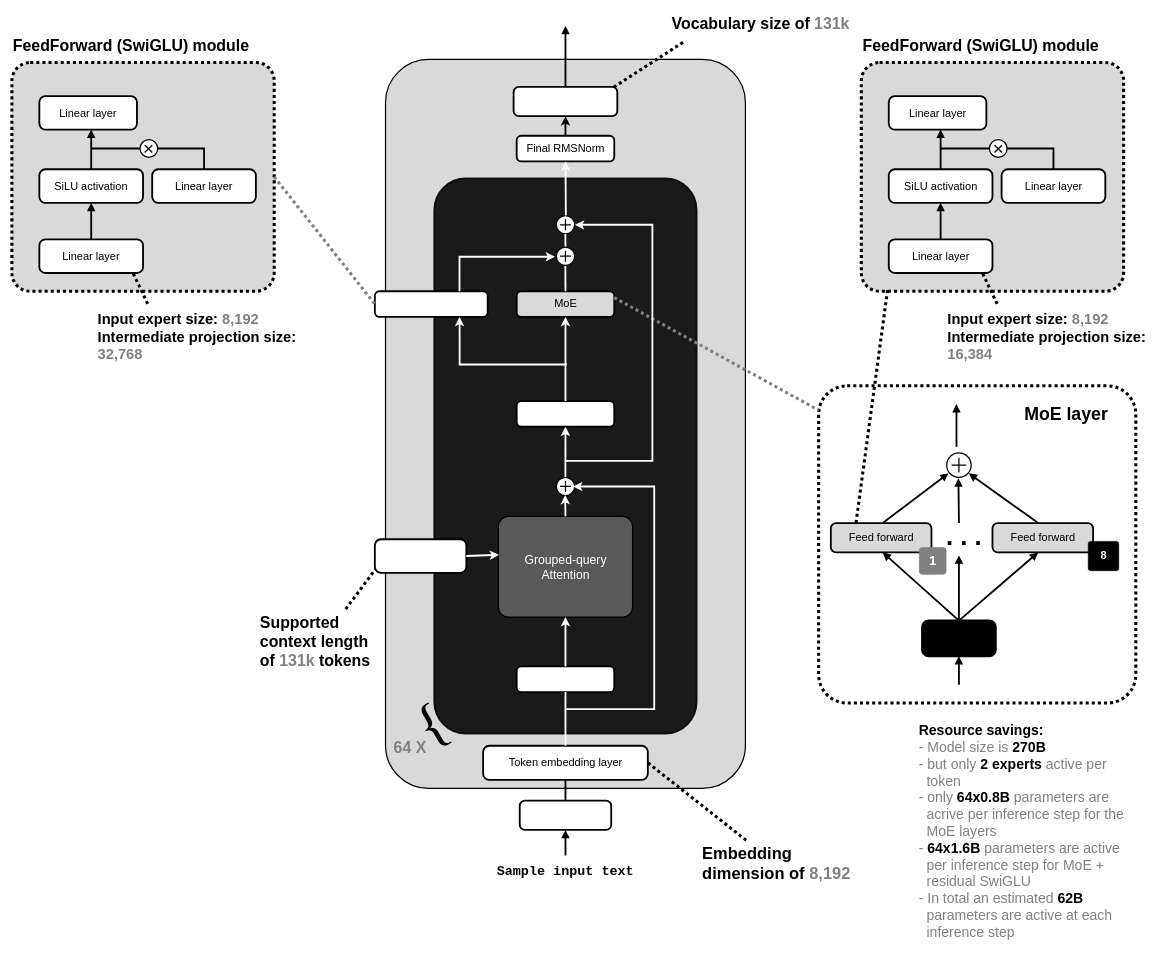
Some shapes in this 1166 by 966 pixel diagram are drawn without their labels. Each missing label, with the centre of its shape:
"Dense feed forward" goes at (431,304).
"Linear output layer" goes at (565,101).
"RMSNorm 1" goes at (565,679).
"RMSNorm 2" goes at (565,413).
"RoPE" goes at (420,555).
"Router" goes at (958,638).
"Tokenized text" goes at (565,815).
